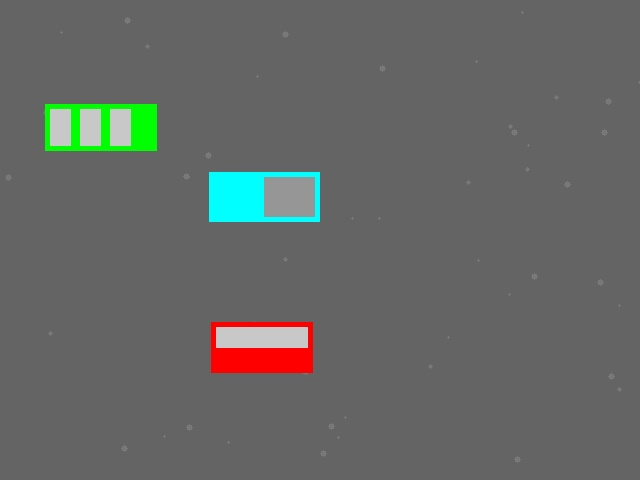bus: (45, 104, 156, 150)
car: (211, 322, 312, 372)
truck: (209, 172, 319, 221)
